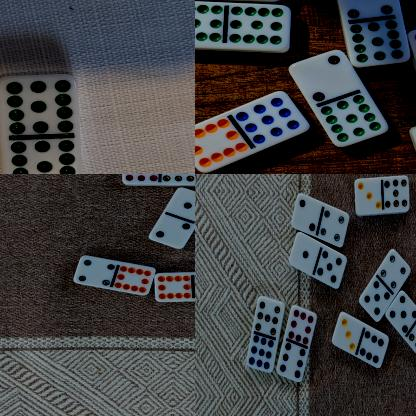pip-1: (289, 232, 318, 274), (167, 188, 195, 219)
pip-10: (195, 120, 248, 174), (113, 266, 157, 296), (155, 272, 194, 302)
pip-11: (0, 74, 80, 138), (322, 96, 390, 147), (227, 3, 291, 52), (1, 137, 85, 174), (349, 21, 412, 67), (195, 1, 227, 47)
pip-2: (290, 50, 356, 101), (150, 216, 192, 251), (292, 192, 321, 235)
pip-3: (332, 312, 360, 354), (355, 178, 384, 217)
pip-4: (333, 0, 403, 20), (75, 255, 116, 288), (381, 250, 412, 290), (320, 209, 350, 248)
pip-5: (360, 280, 390, 324), (386, 292, 416, 333), (318, 249, 347, 290)
pip-6: (359, 330, 390, 368), (278, 343, 306, 383)
pip-7: (255, 297, 285, 337), (384, 176, 411, 215), (160, 174, 195, 187), (408, 319, 416, 360)
pip-8: (289, 307, 317, 346), (122, 174, 161, 187)
pip-9: (237, 91, 311, 144), (245, 336, 276, 374)
